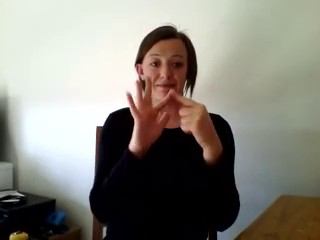E: (117, 69, 234, 162)
